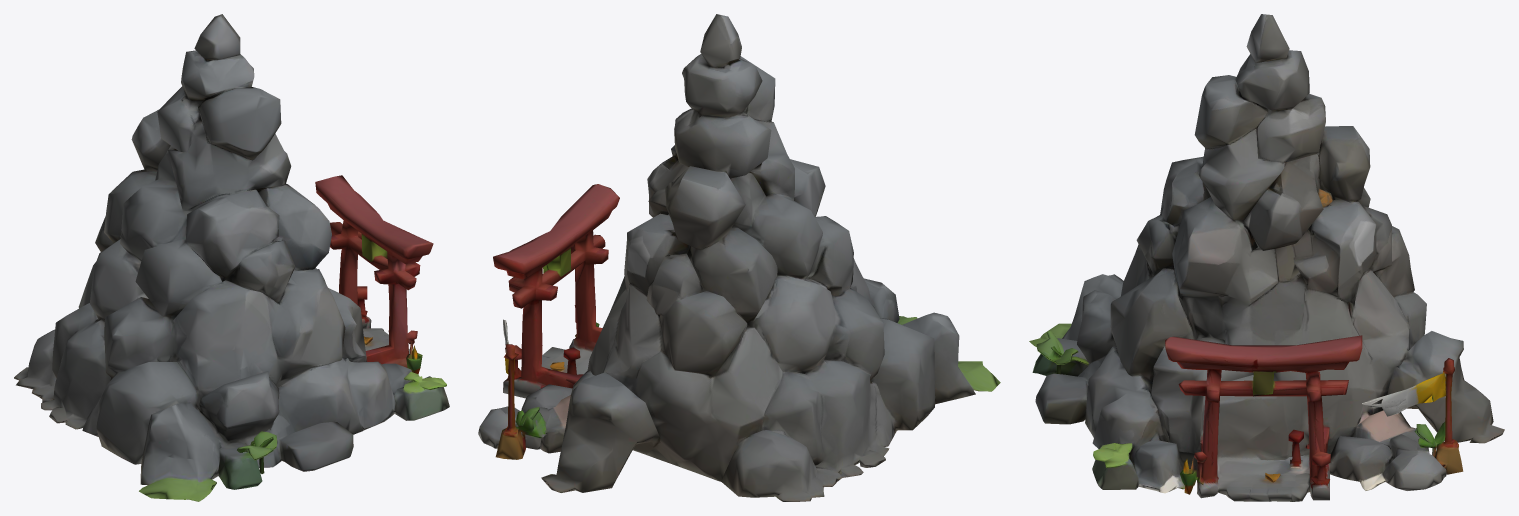
File: biome-montanha.glb
3 renders of one model, left to right at view 1: azimuth 30°, elevation 25°; view 2: azimuth 150°, elevation 25°; view 3: azimuth 270°, elevation 25°, orthographic. The views are drawn at different scales.
Parts seen in each view (by area): view 1: tripo_node_bc01c7bb-22d6-4a23-a5ca-0b6b0b470ad6; view 2: tripo_node_bc01c7bb-22d6-4a23-a5ca-0b6b0b470ad6; view 3: tripo_node_bc01c7bb-22d6-4a23-a5ca-0b6b0b470ad6.
Boxes of the visible parts, x1,y1,x2,y2 form: tripo_node_bc01c7bb-22d6-4a23-a5ca-0b6b0b470ad6: [14, 14, 449, 501]; tripo_node_bc01c7bb-22d6-4a23-a5ca-0b6b0b470ad6: [478, 14, 1000, 501]; tripo_node_bc01c7bb-22d6-4a23-a5ca-0b6b0b470ad6: [1029, 14, 1504, 501].
Bounding box in the file's own units: 0.8884 × 0.9217 × 1.
Materials: 1 (1 with a texture image).
